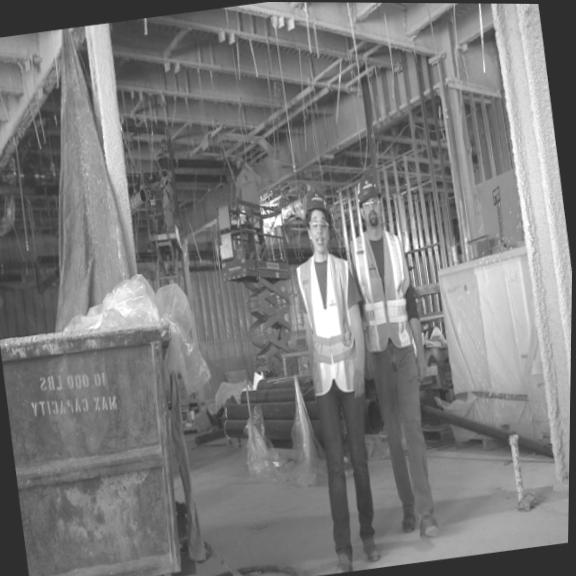safety_vest: (290, 248, 368, 396), (348, 227, 419, 353)
